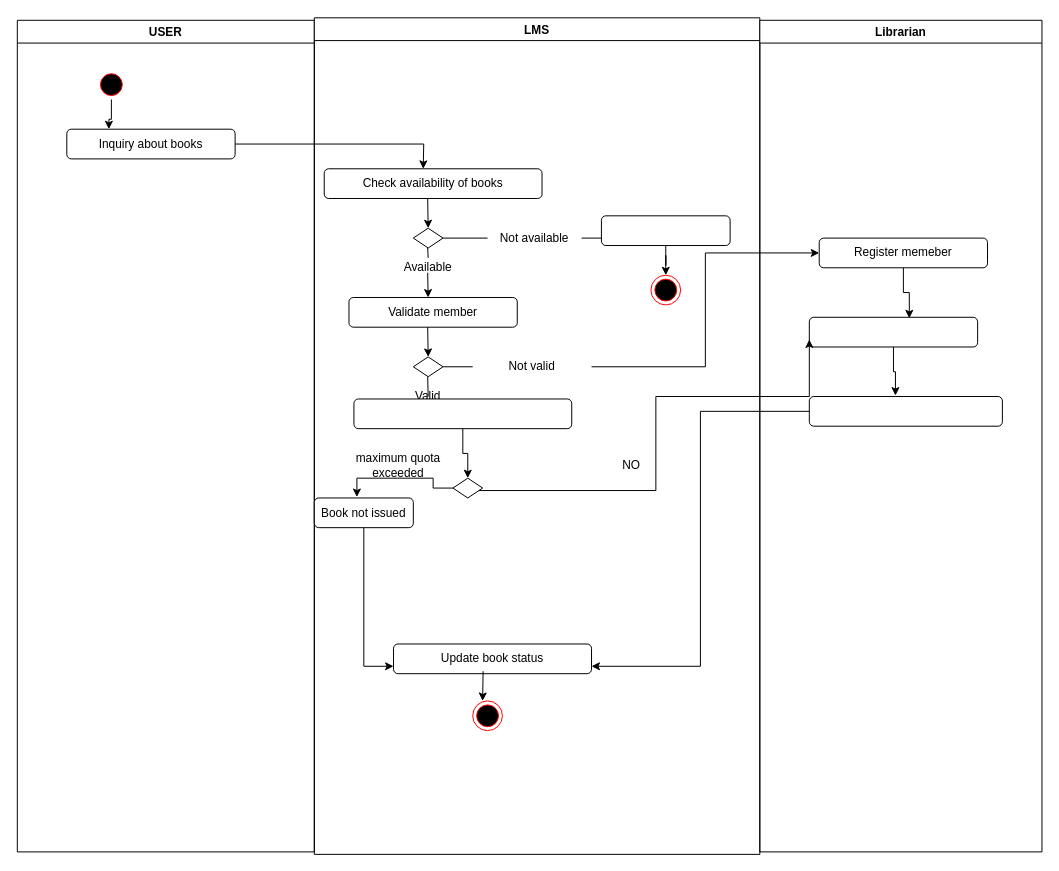
This 1059x871 diagram has some shape labels left out. The shapes that lost their labels are listed below. From the top down, each one's centre as x and y in pixels, then its label:
(665,230): Book not available
(893,331): Issue books
(462,413): Checking number of books issued to member
(905,411): Add member,book,and issue detail
